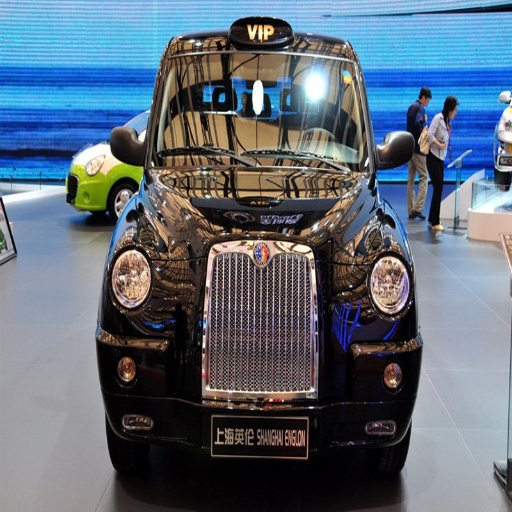front_bumper: (100, 256, 420, 466)
